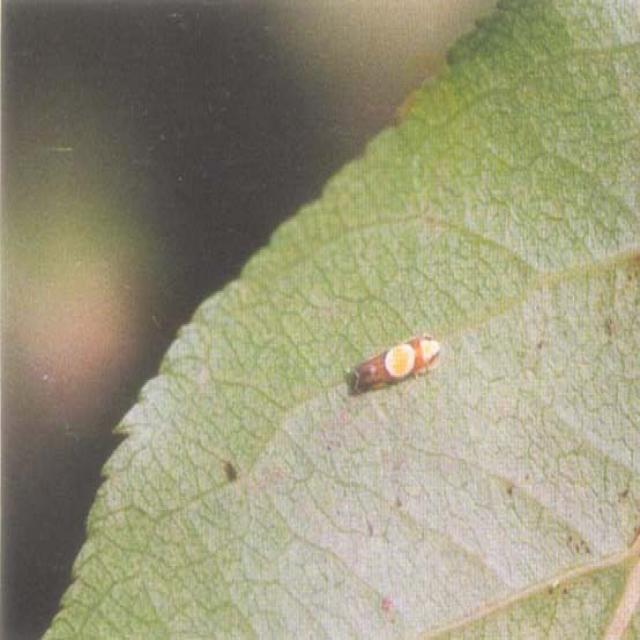Yechan: (345, 333, 442, 394)
